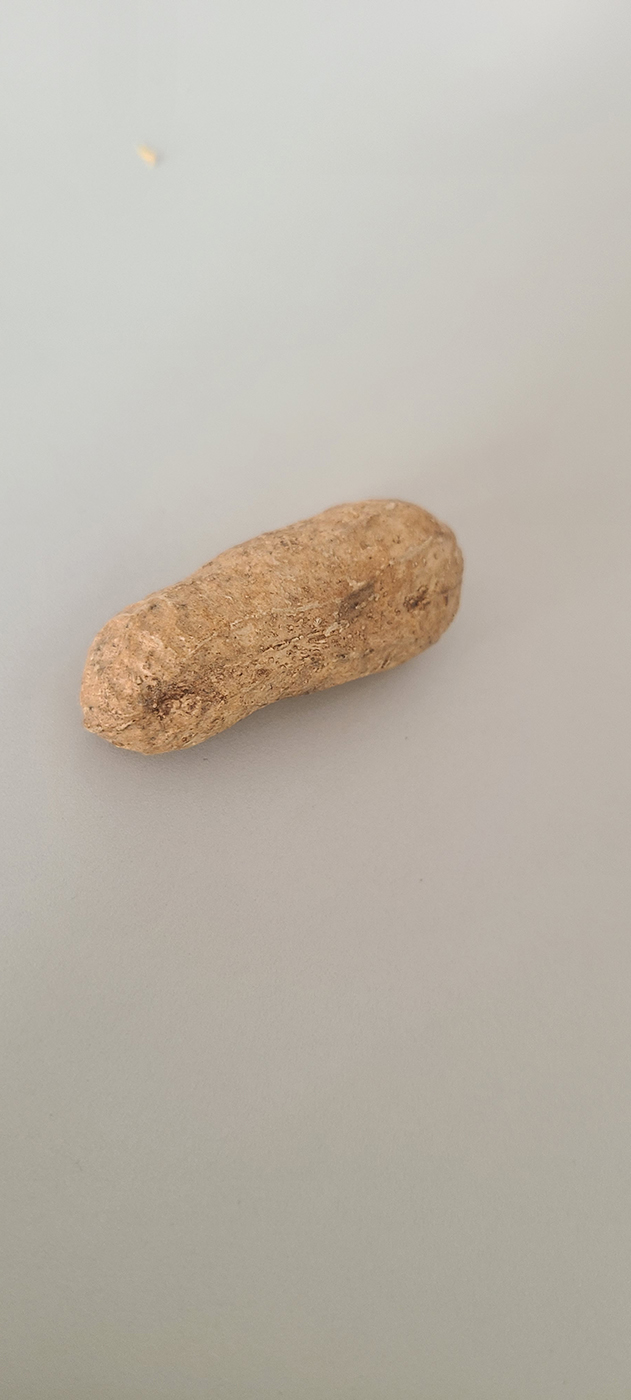h: (77, 497, 464, 757)
